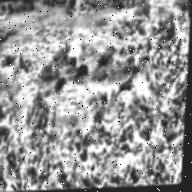boar: (69, 56, 96, 81), (99, 33, 117, 68), (118, 71, 138, 98), (54, 70, 69, 95), (67, 53, 79, 65)
